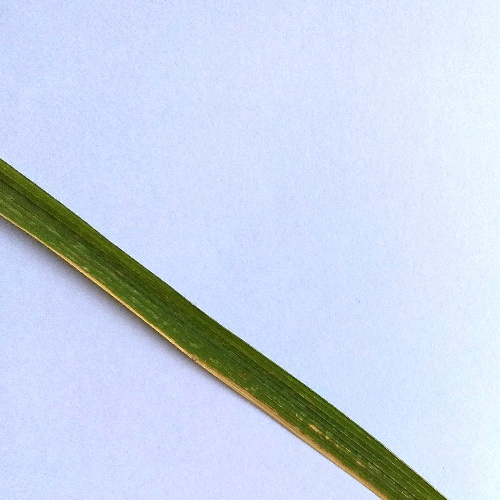Busuk Leher: (178, 356, 219, 384), (307, 456, 346, 478), (248, 402, 282, 423), (218, 383, 250, 404), (283, 424, 311, 448)
